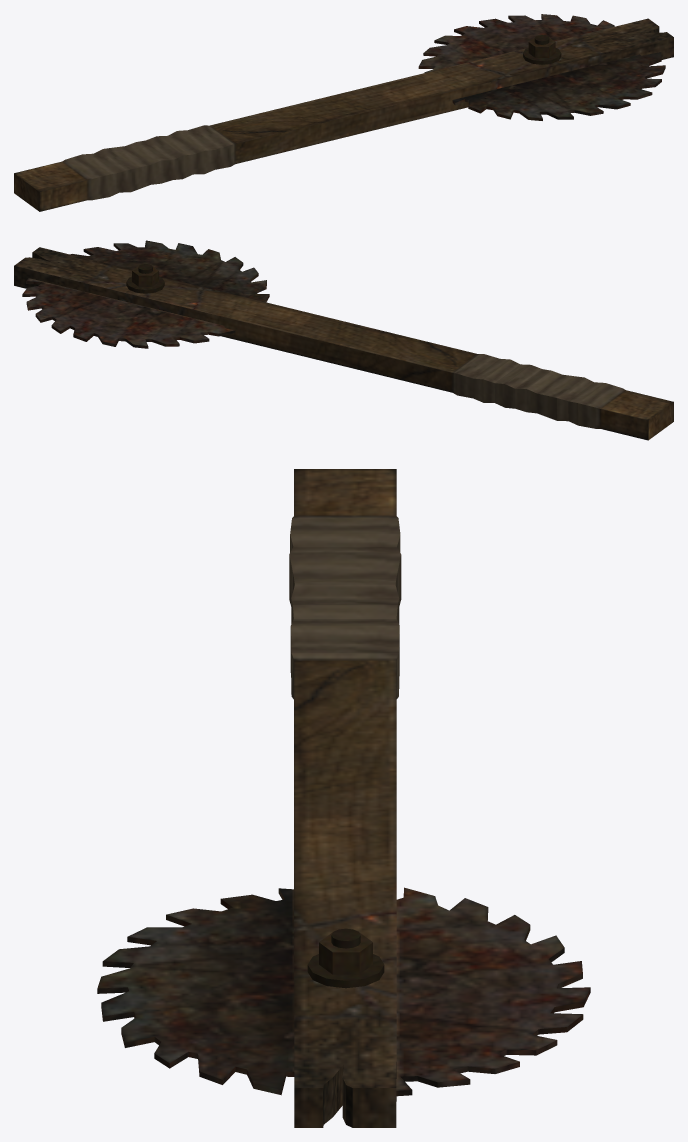
The model's file is makeshift_melee_mx_1.obj.
The picture shows the model from 3 angles, top to bottom: view 1: azimuth 30°, elevation 25°; view 2: azimuth 150°, elevation 25°; view 3: azimuth 270°, elevation 25°; orthographic projection. The views are drawn at different scales.
Visible parts, largest first — view 1: makeshift_melee_mx_1; view 2: makeshift_melee_mx_1; view 3: makeshift_melee_mx_1.
Boxes of the visible parts, x1=… form: makeshift_melee_mx_1: x1=14, y1=14, x2=673, y2=211; makeshift_melee_mx_1: x1=14, y1=240, x2=673, y2=440; makeshift_melee_mx_1: x1=97, y1=469, x2=590, y2=1127.
Size of the model in its own units: 1 by 0.0804 by 0.3367.
